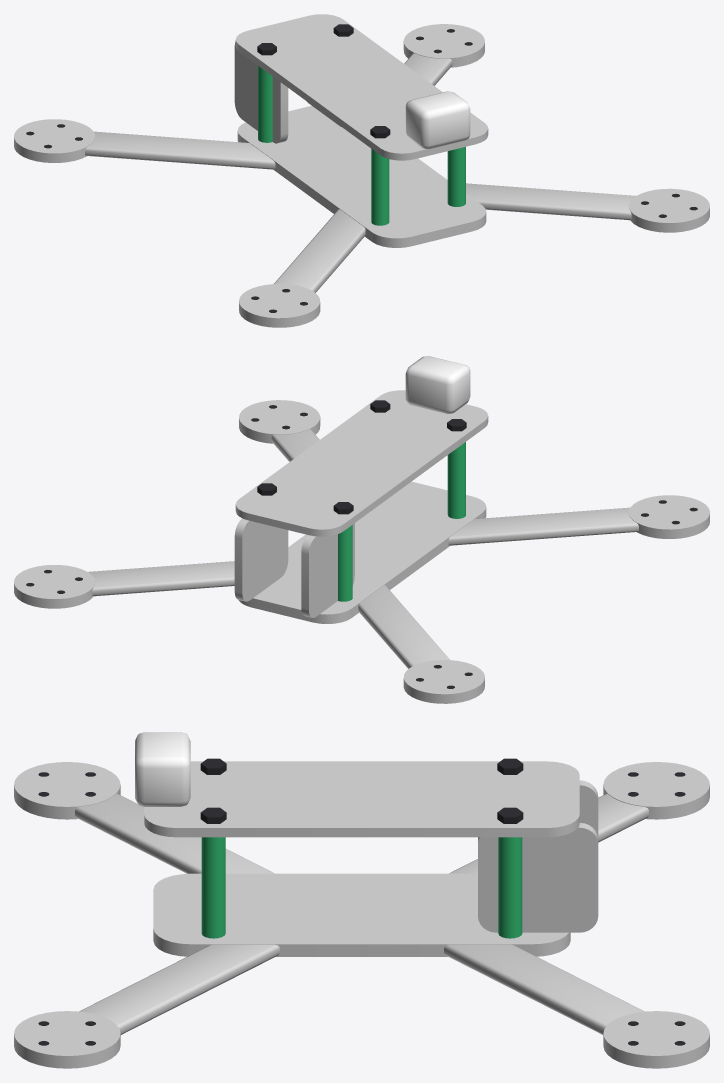
Rendered from frame_kranich4.glb.
3 renders of one model, top to bottom at view 1: azimuth 30°, elevation 25°; view 2: azimuth 150°, elevation 25°; view 3: azimuth 270°, elevation 25°, orthographic. The views are drawn at different scales.
Parts seen in each view (by area): view 1: frame_kranich4_T_carbon, frame_kranich4_M_Standoff_kranich4, frame_kranich4_T_tpu, frame_kranich4_M_Bolt; view 2: frame_kranich4_T_carbon, frame_kranich4_T_tpu, frame_kranich4_M_Standoff_kranich4, frame_kranich4_M_Bolt; view 3: frame_kranich4_T_carbon, frame_kranich4_M_Standoff_kranich4, frame_kranich4_T_tpu, frame_kranich4_M_Bolt.
Boxes of the visible parts, x1,y1,x2,y2 form: frame_kranich4_T_carbon: [14, 14, 709, 327]; frame_kranich4_M_Standoff_kranich4: [258, 66, 465, 225]; frame_kranich4_T_tpu: [405, 91, 470, 149]; frame_kranich4_M_Bolt: [26, 24, 697, 312]; frame_kranich4_T_carbon: [14, 390, 709, 703]; frame_kranich4_T_tpu: [405, 356, 470, 413]; frame_kranich4_M_Standoff_kranich4: [338, 442, 465, 601]; frame_kranich4_M_Bolt: [26, 400, 697, 688]; frame_kranich4_T_carbon: [14, 761, 709, 1068]; frame_kranich4_M_Standoff_kranich4: [201, 837, 522, 938]; frame_kranich4_T_tpu: [135, 732, 190, 806]; frame_kranich4_M_Bolt: [38, 758, 685, 1045].
Bounding box in the file's own units: 0.1502 × 0.0438 × 0.1502.
